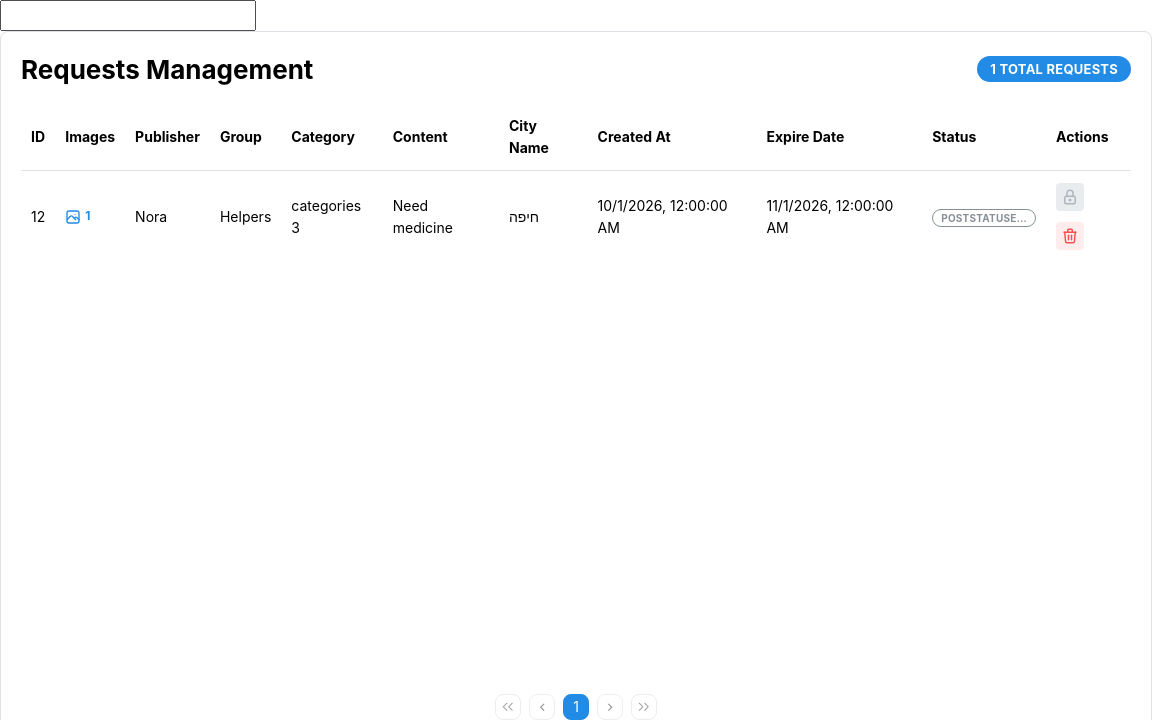
Test: deletion failure leaves the confirmation open and allows retry
The width and height of the screenshot is (1152, 720).
Click the button named "Delete post #12" at (1070, 236), box [1056, 222, 1084, 250]
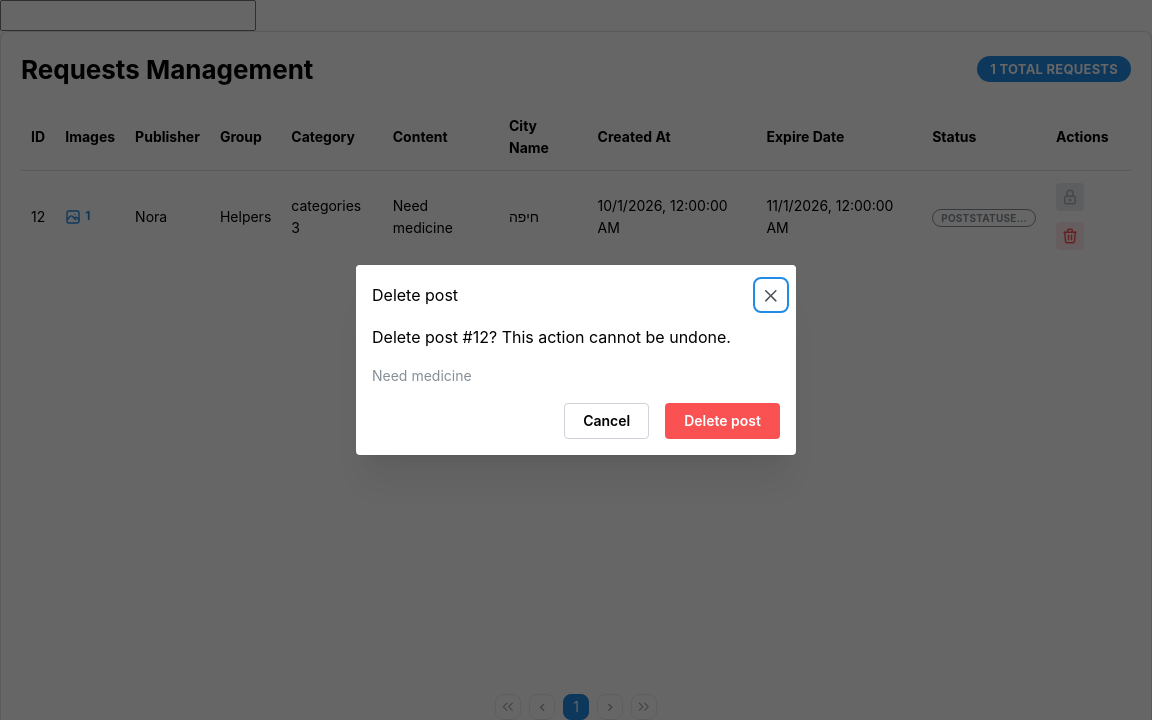
Click the button with aria-label "Confirm delete post" at (723, 420), box [665, 402, 780, 438]
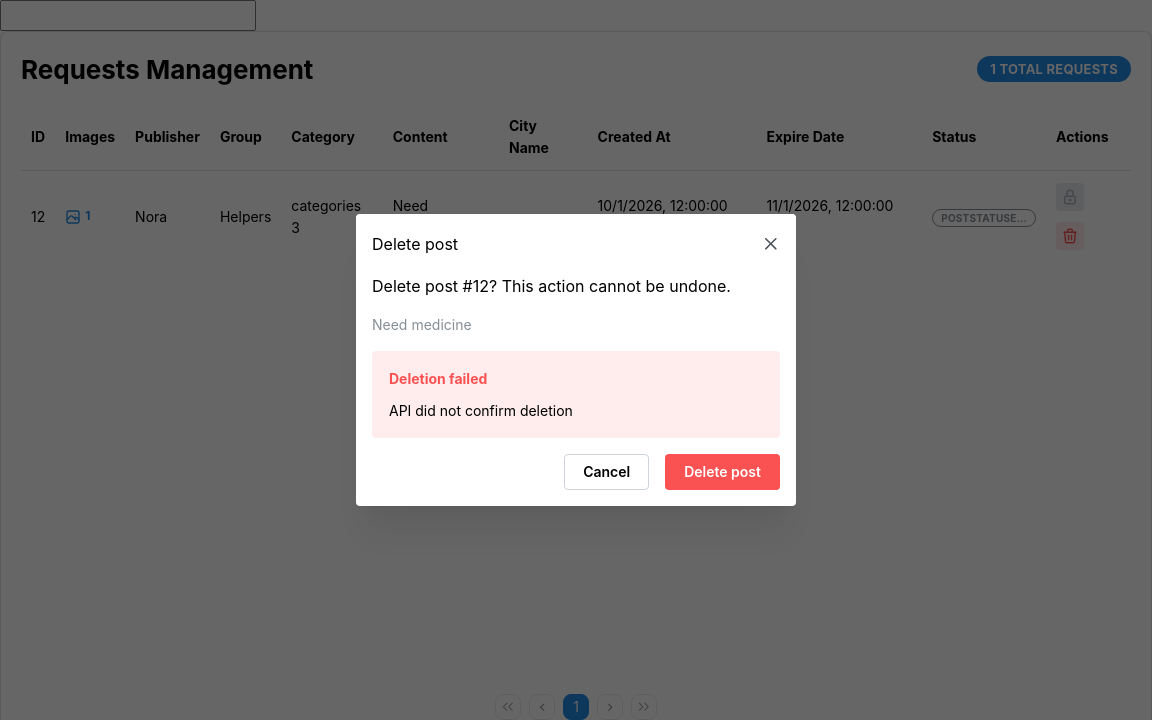
Expected: the text "Need medicine" is shown 2 times, [393, 197, 453, 236]; [372, 316, 472, 333]
Now the dialog is shown, box [356, 214, 796, 506]
Now the text "API did not confirm deletion" is shown, box [389, 402, 573, 418]
Click the button with aria-label "Confirm delete post" at (723, 472), box [665, 454, 780, 490]
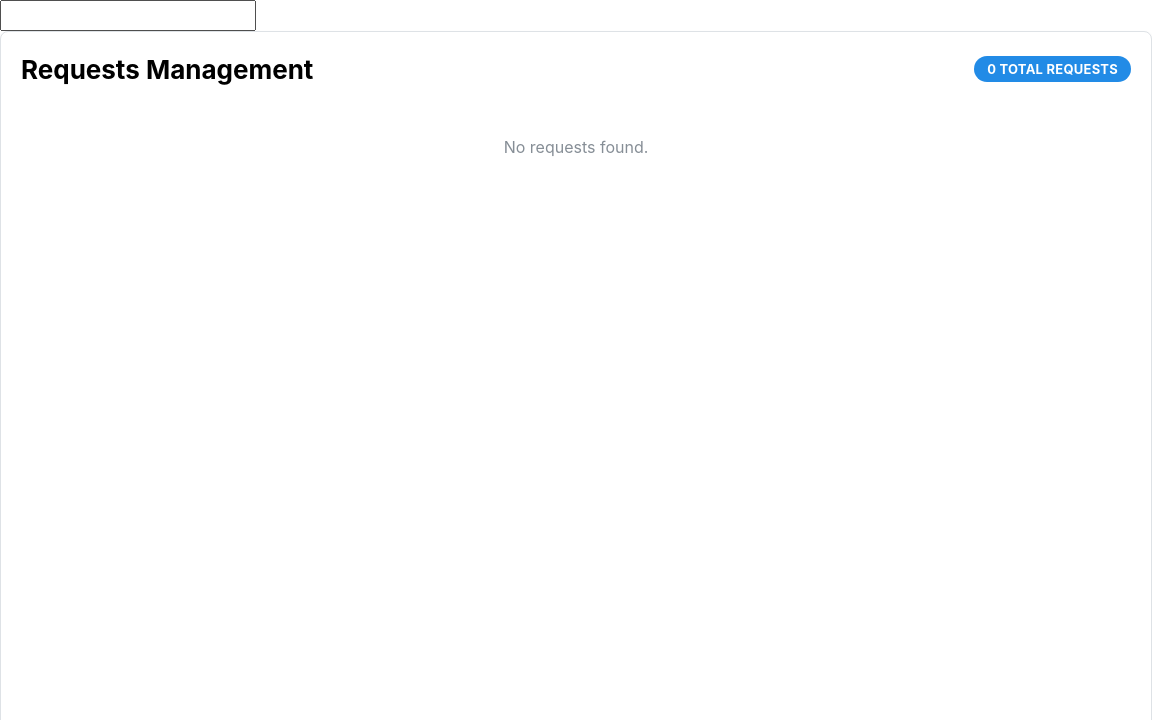
Now the text "No requests found." is shown, box [504, 135, 648, 160]
